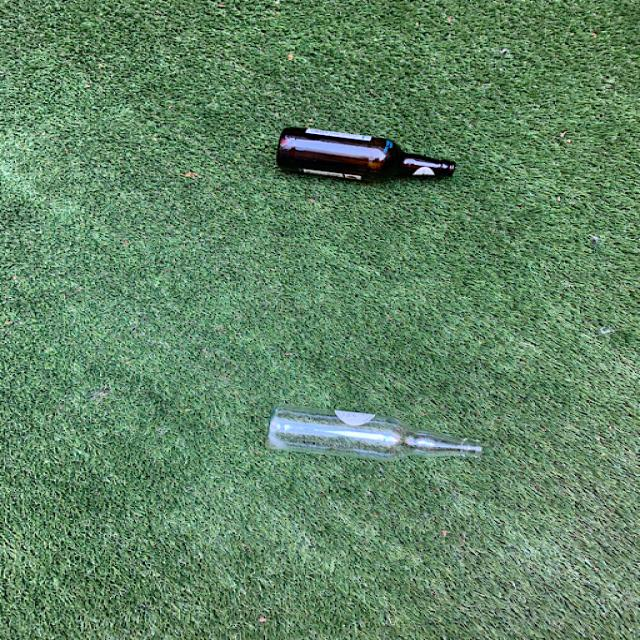litter: (260, 400, 491, 470), (270, 124, 461, 184)
